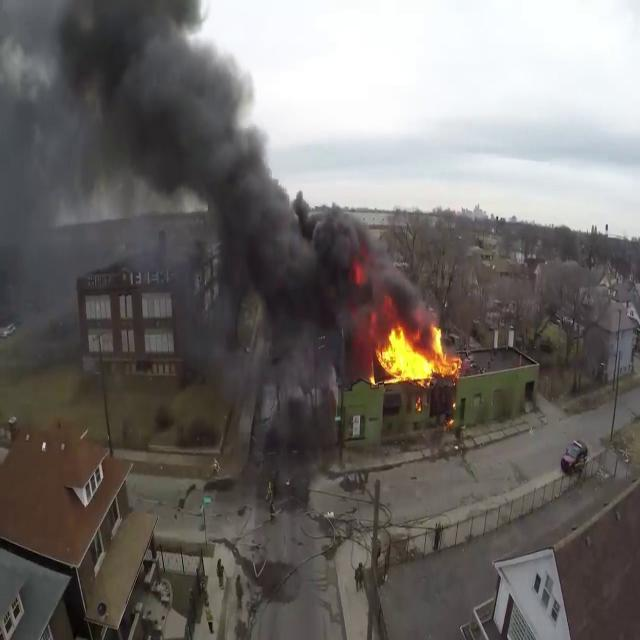Fire: (368, 313, 461, 390)
Smoke: (0, 0, 238, 268), (178, 82, 356, 372)
